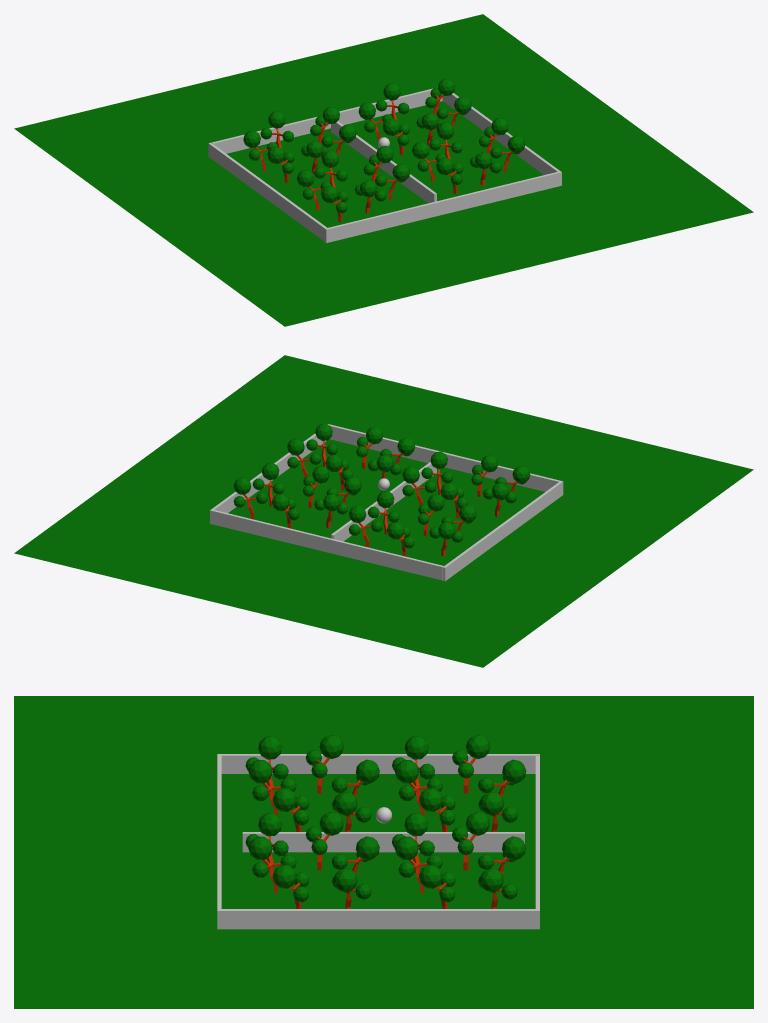
Rendered from forest3.obj.
The picture shows the model from 3 angles, top to bottom: view 1: azimuth 30°, elevation 25°; view 2: azimuth 150°, elevation 25°; view 3: azimuth 270°, elevation 25°; orthographic projection. The views are drawn at different scales.
Parts seen in each view (by area): view 1: Plane; view 2: Plane; view 3: Plane, Cube.075, Cube.077, Cube.080, Cube.073, Cube.074, Cube.076, Cube.079, Cube.078, Cube.047, Cube.049, Cube.052 (+3 smaller).
Part boxes in pixels (left/top/right/bottom): Plane: left=14, top=14, right=753, bottom=326; Plane: left=14, top=355, right=753, bottom=667; Plane: left=14, top=696, right=753, bottom=1008; Cube.075: left=459, top=909, right=499, bottom=929; Cube.077: left=217, top=909, right=257, bottom=929; Cube.080: left=338, top=909, right=378, bottom=929; Cube.073: left=378, top=909, right=418, bottom=929; Cube.074: left=419, top=909, right=459, bottom=929; Cube.076: left=499, top=909, right=539, bottom=929; Cube.079: left=298, top=909, right=338, bottom=929; Cube.078: left=257, top=909, right=297, bottom=929; Cube.047: left=323, top=832, right=363, bottom=852; Cube.049: left=419, top=754, right=458, bottom=773; Cube.052: left=217, top=754, right=257, bottom=773.
Bounding box in the file's own units: 90.37 × 7.23 × 90.37.
